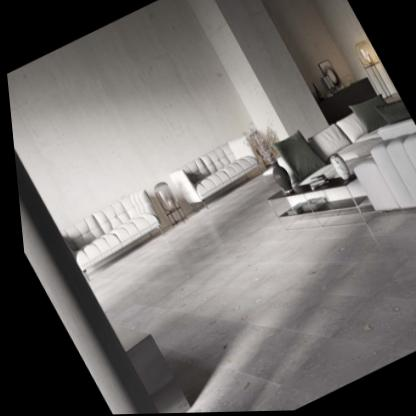Ceramic floor: (80, 167, 416, 413)
